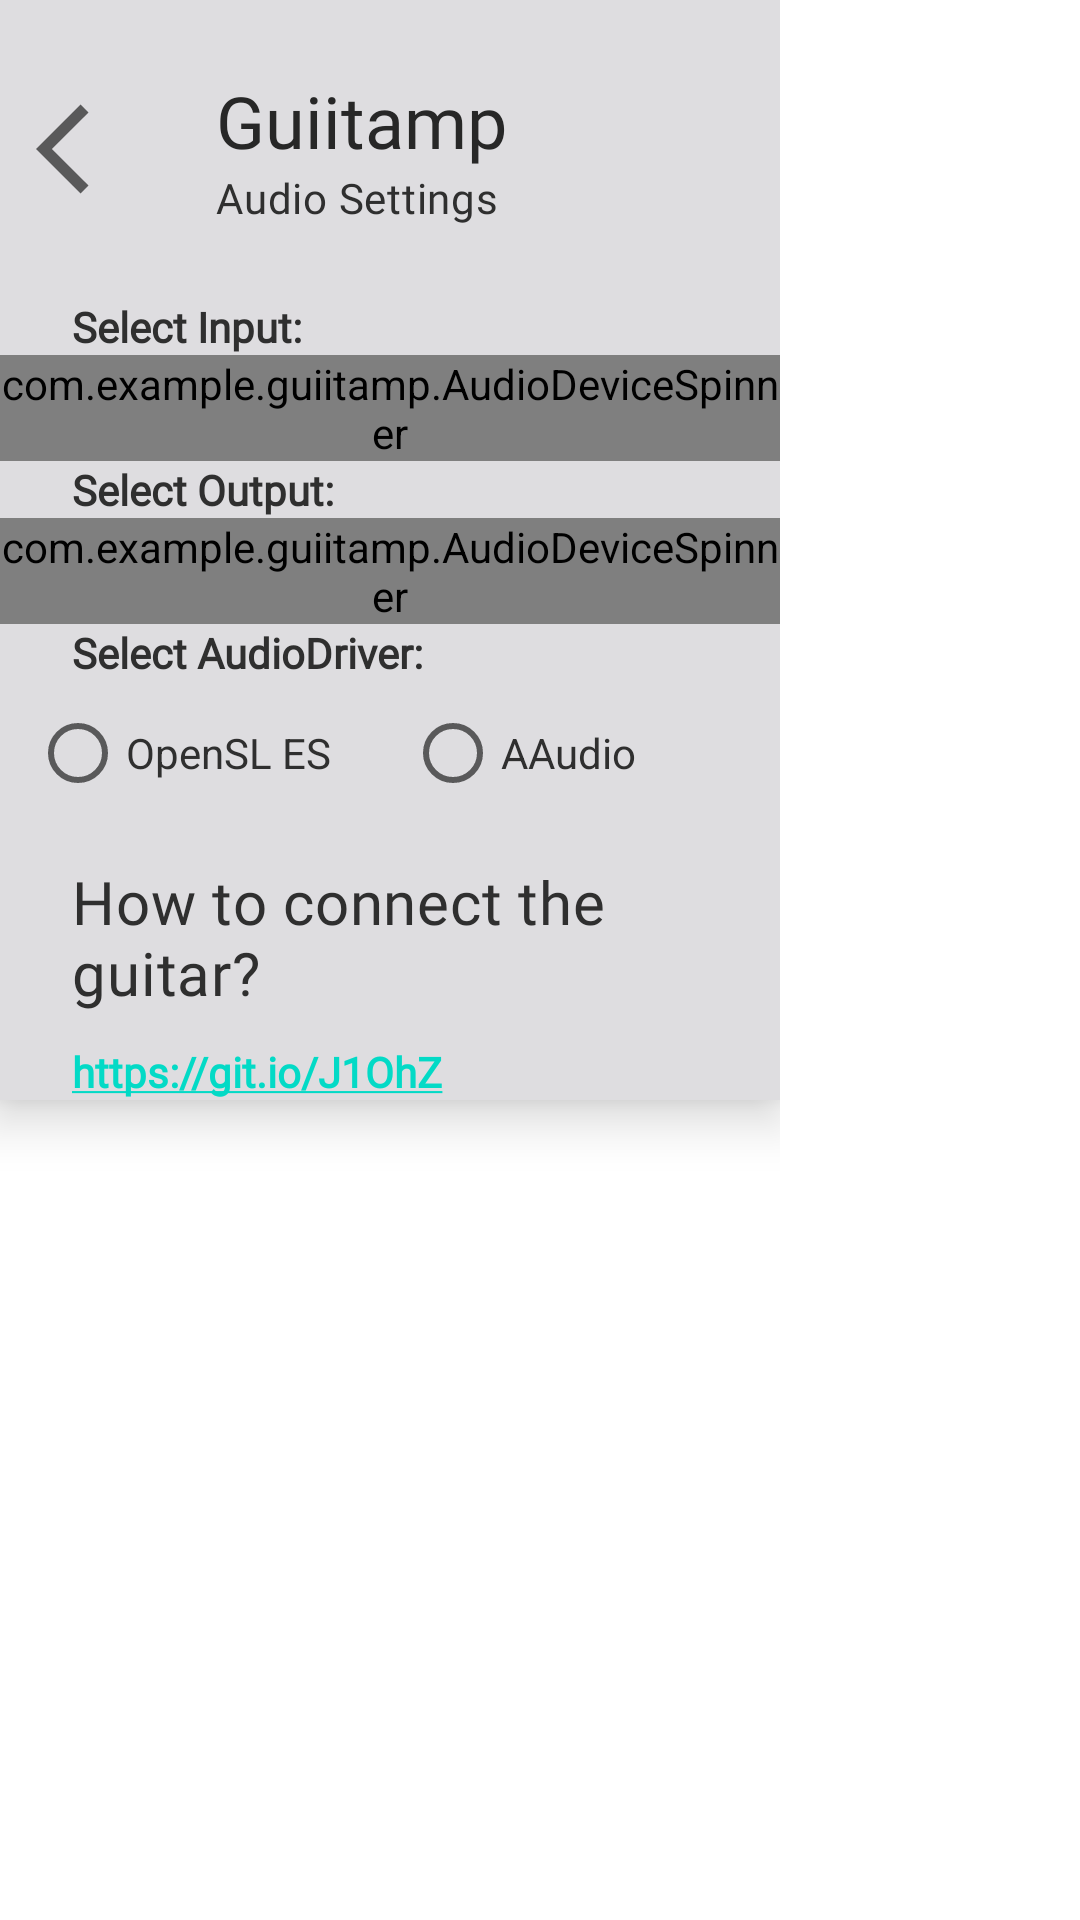

Icon click points for this 1080 x 1920 phone screenshot, format point (x, y):
arrow back: point (62, 149)
